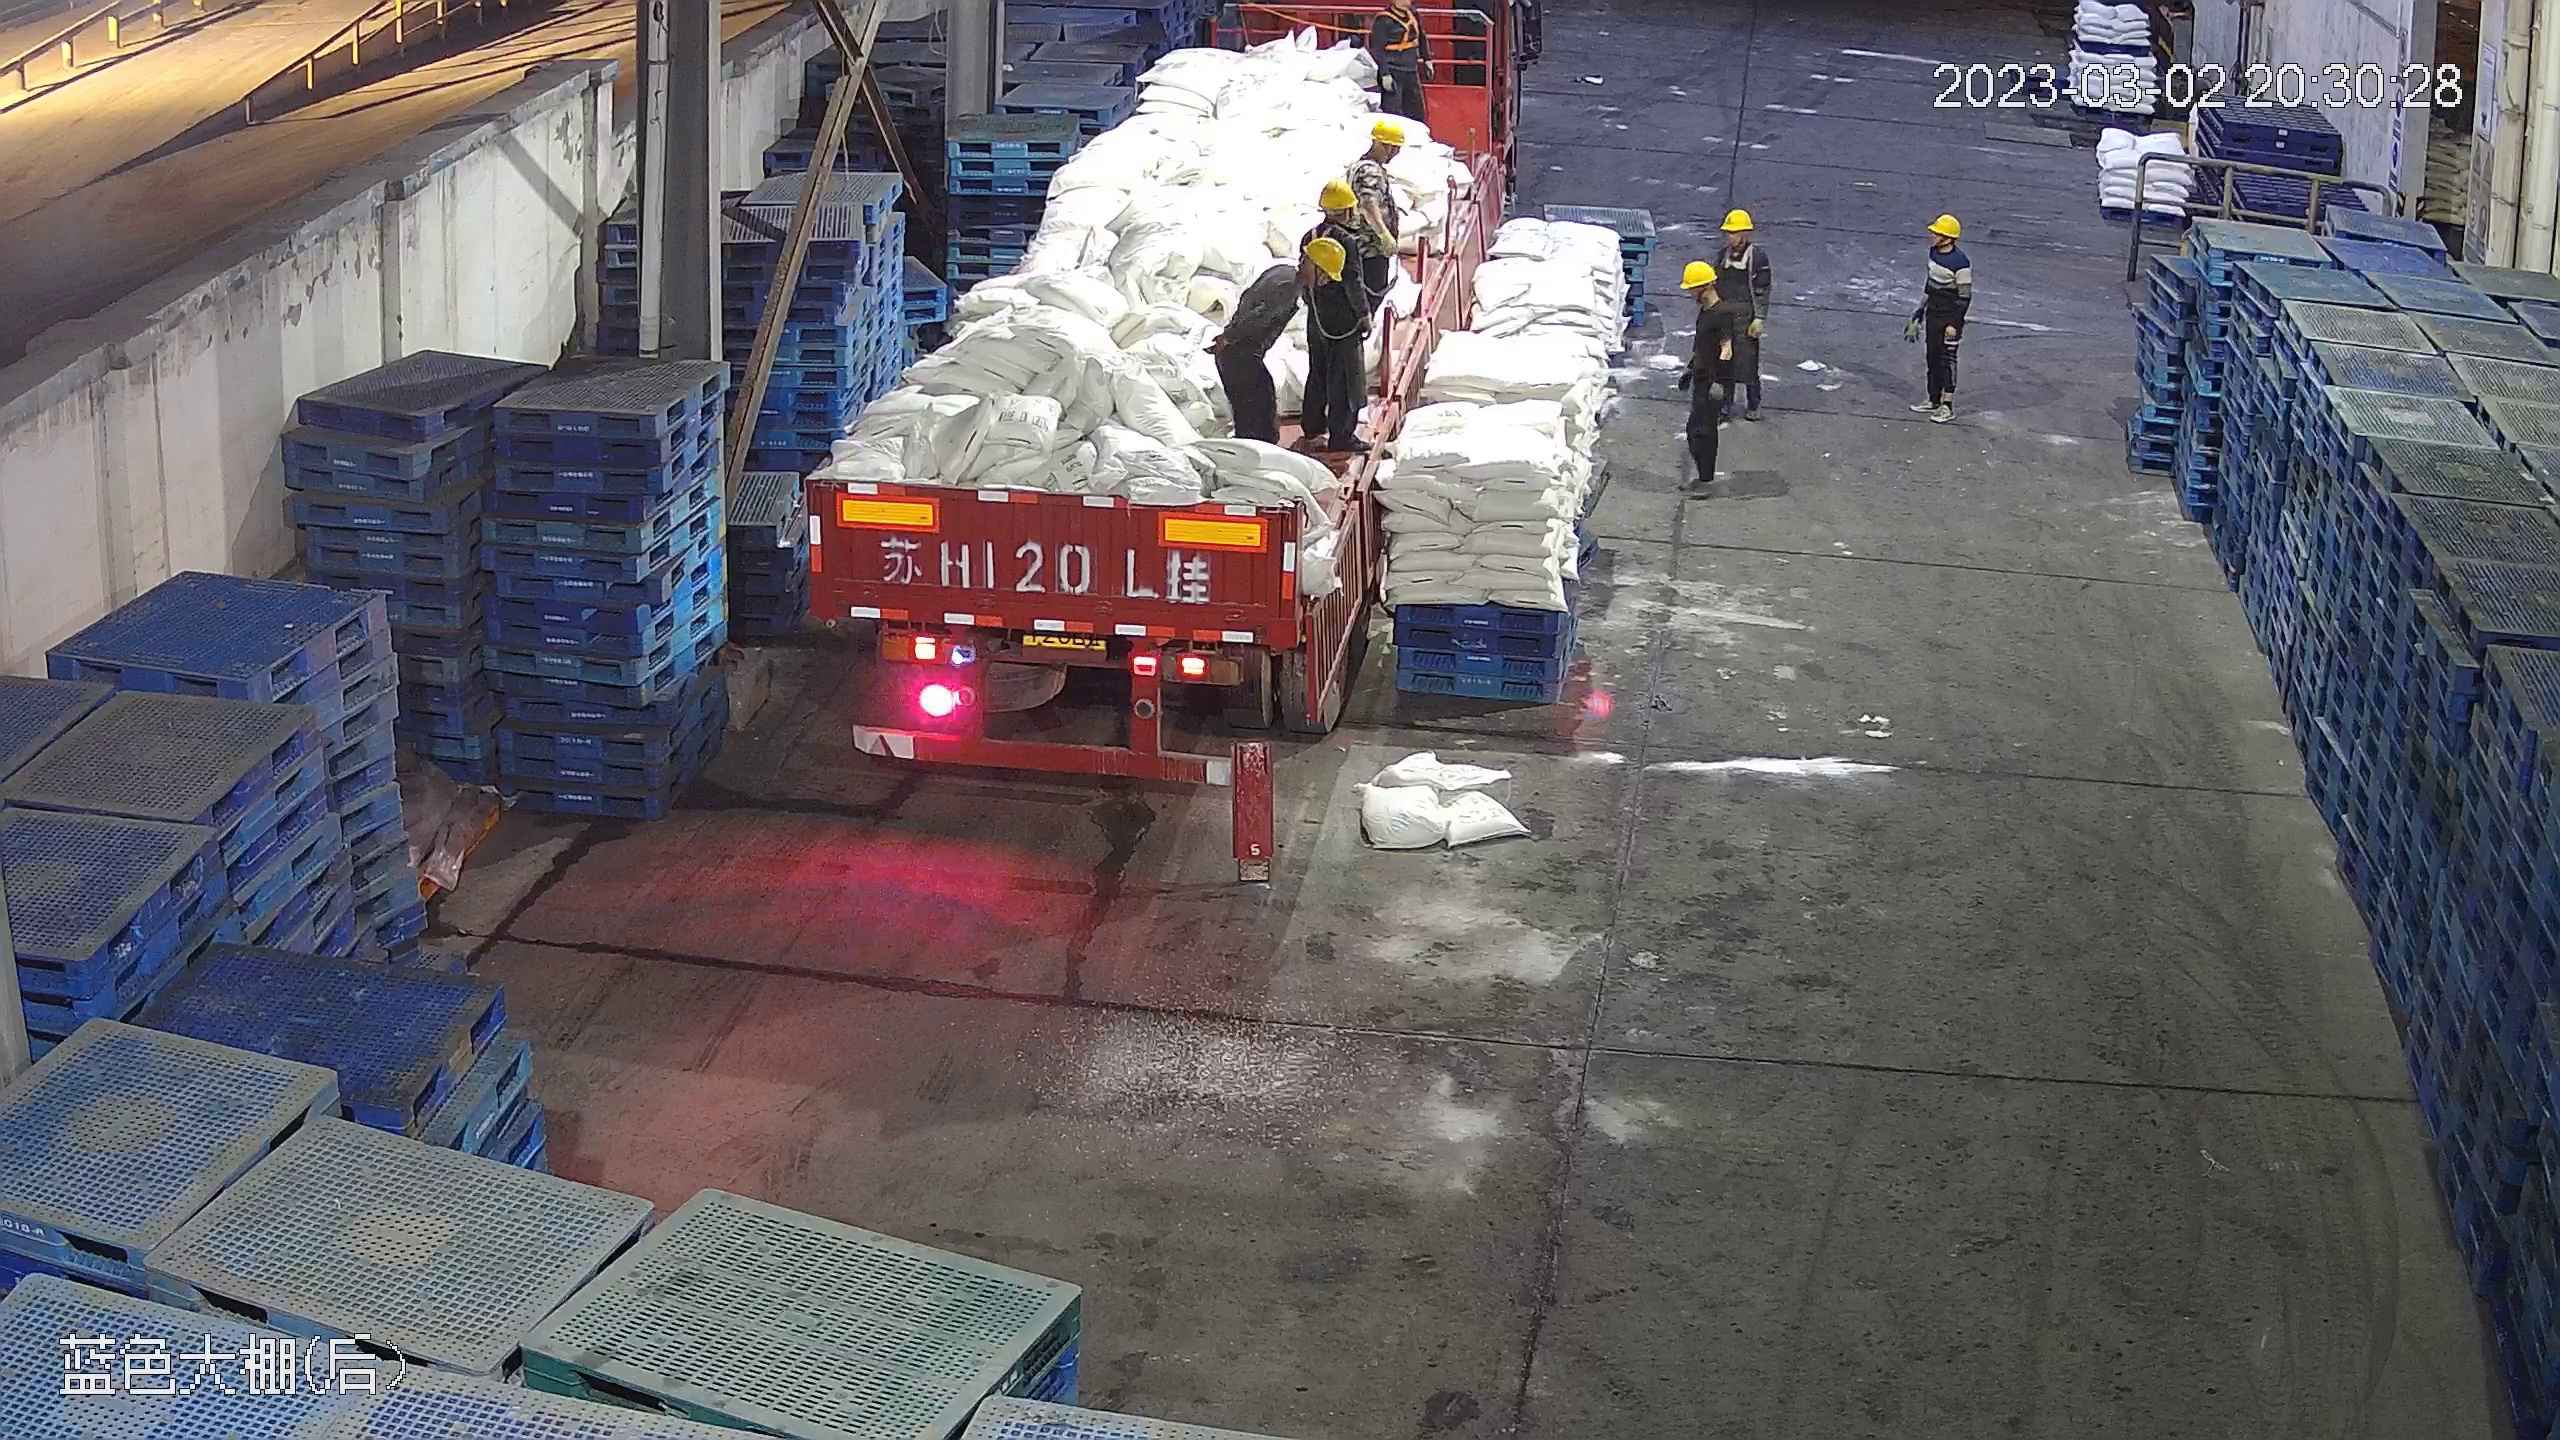belt: (1377, 8, 1421, 52), (1361, 173, 1395, 211), (1723, 241, 1759, 272), (1305, 218, 1339, 240)
head: (1265, 230, 1361, 312), (1313, 178, 1387, 250), (1680, 257, 1735, 335), (1352, 118, 1410, 189), (1712, 204, 1771, 272), (1918, 212, 1971, 278)
helmet: (1297, 230, 1349, 280), (1314, 176, 1356, 209), (1367, 117, 1405, 148), (1928, 212, 1961, 236), (1720, 207, 1752, 230)
people: (1210, 227, 1346, 450), (1294, 190, 1385, 440), (1673, 254, 1739, 490), (1911, 211, 1973, 416), (1712, 214, 1768, 436), (1368, 5, 1437, 131)
truck: (790, 9, 1468, 779)
